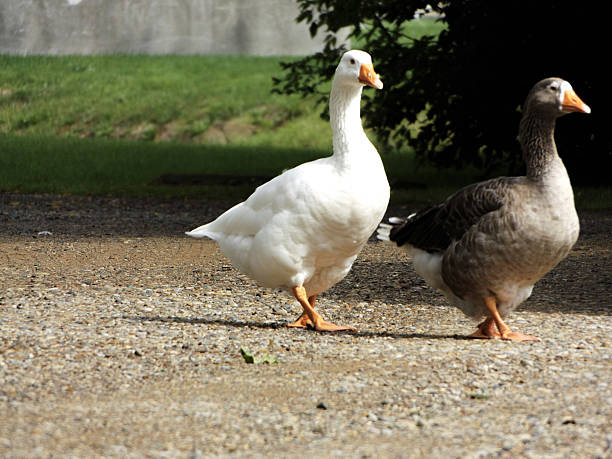goose: (190, 46, 393, 337), (384, 70, 597, 341)
